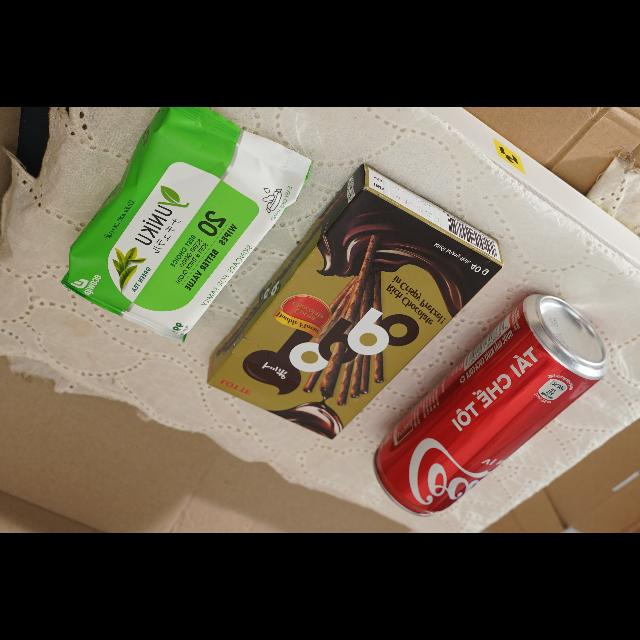banh_toppo_socola: (208, 166, 503, 438)
coca_cola: (374, 294, 607, 516)
khan_giay: (61, 108, 311, 341)
